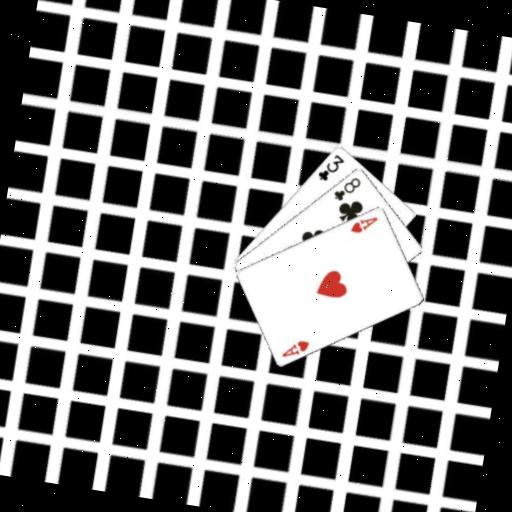3C: (314, 148, 347, 185)
8C: (330, 170, 363, 204)
AH: (347, 209, 380, 237), (278, 334, 311, 362)
